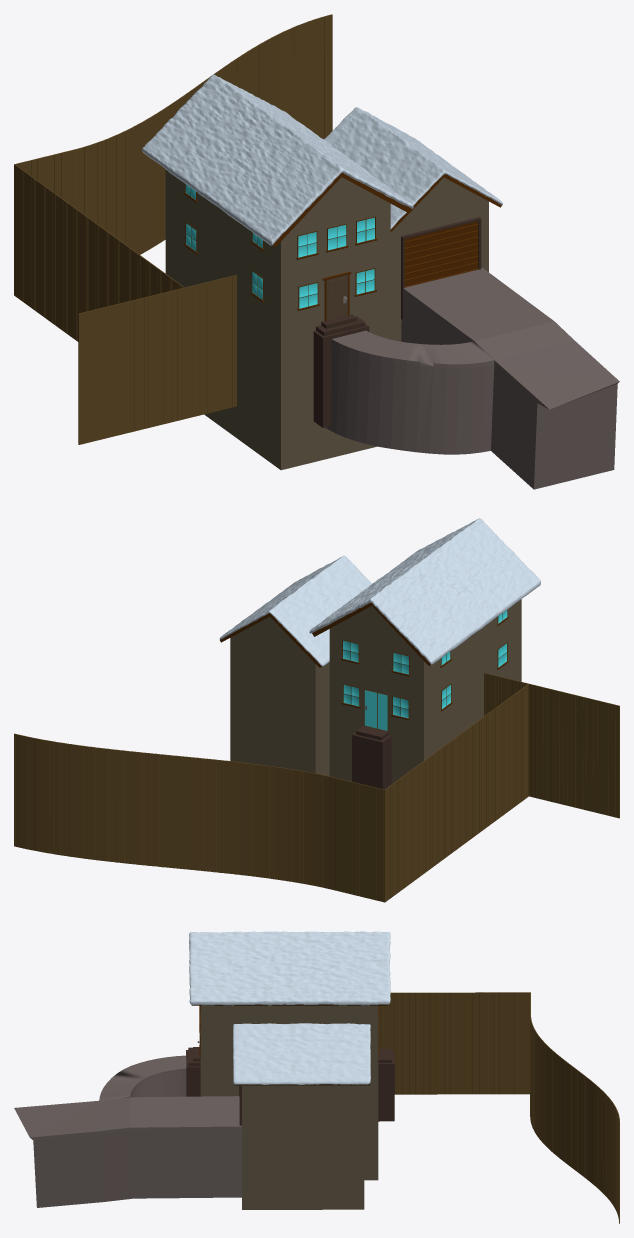
Rendered from tuckershouse_compressed.glb.
3 views of the same model, one above another, from view 1: azimuth 30°, elevation 25°; view 2: azimuth 150°, elevation 25°; view 3: azimuth 270°, elevation 25° (orthographic). The views are drawn at different scales.
Parts seen in each view (by area): view 1: Cube.625, Cube.619, Cube.624, Cube.638, Cube.620, Cube.621, Cube.634; view 2: Cube.625, Cube.624, Cube.638, Cube.620, Cube.621; view 3: Cube.619, Cube.625, Cube.638, Cube.624, Cube.621, Cube.620.
Part boxes in pixels (x1=…): Cube.625: x1=14, y1=14, x2=332, y2=444; Cube.619: x1=325, y1=267, x2=619, y2=489; Cube.624: x1=165, y1=169, x2=488, y2=470; Cube.638: x1=142, y1=74, x2=502, y2=245; Cube.620: x1=183, y1=173, x2=501, y2=321; Cube.621: x1=313, y1=217, x2=481, y2=427; Cube.634: x1=326, y1=275, x2=347, y2=320; Cube.625: x1=14, y1=673, x2=619, y2=902; Cube.624: x1=230, y1=599, x2=521, y2=783; Cube.638: x1=219, y1=518, x2=540, y2=666; Cube.620: x1=220, y1=602, x2=508, y2=731; Cube.621: x1=352, y1=725, x2=391, y2=789; Cube.619: x1=14, y1=1055, x2=241, y2=1207; Cube.625: x1=378, y1=992, x2=619, y2=1223; Cube.638: x1=189, y1=931, x2=390, y2=1084; Cube.624: x1=200, y1=1005, x2=378, y2=1209; Cube.621: x1=186, y1=1047, x2=394, y2=1125; Cube.620: x1=191, y1=1004, x2=387, y2=1085.
Size of the model in its own units: 5.11 by 2.99 by 7.2.
